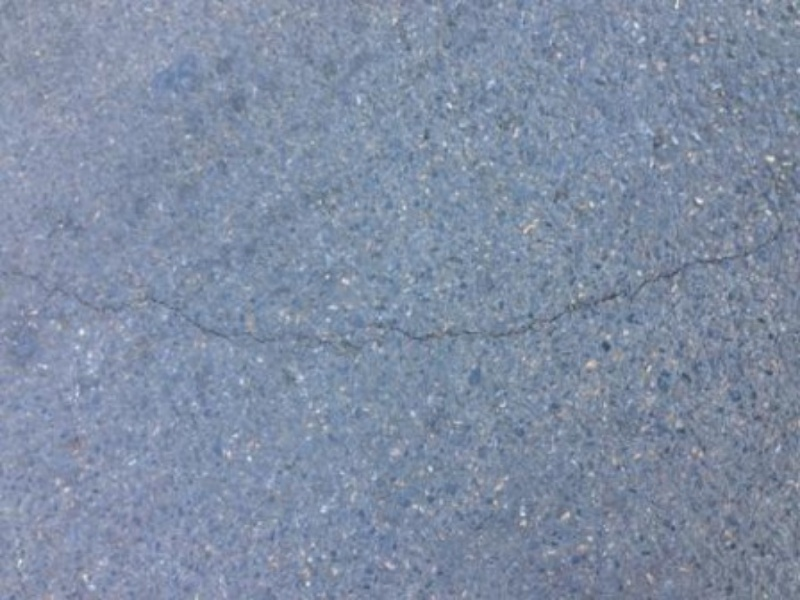crack: (10, 210, 797, 397)
